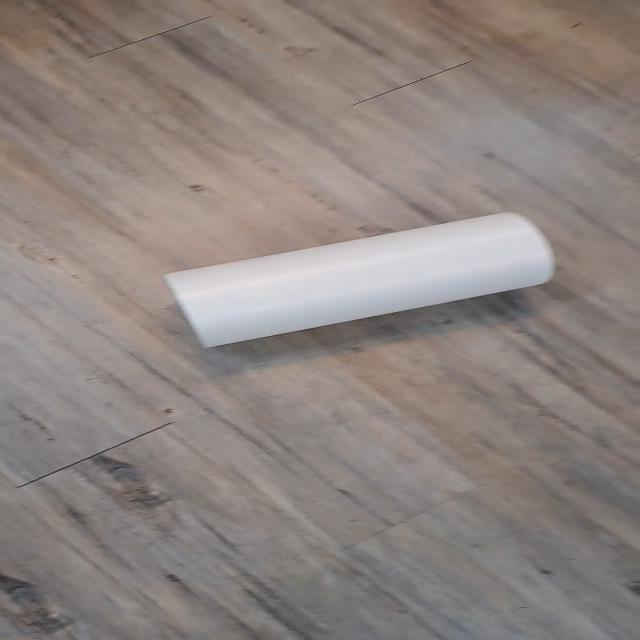CORAL: (160, 204, 566, 365)
